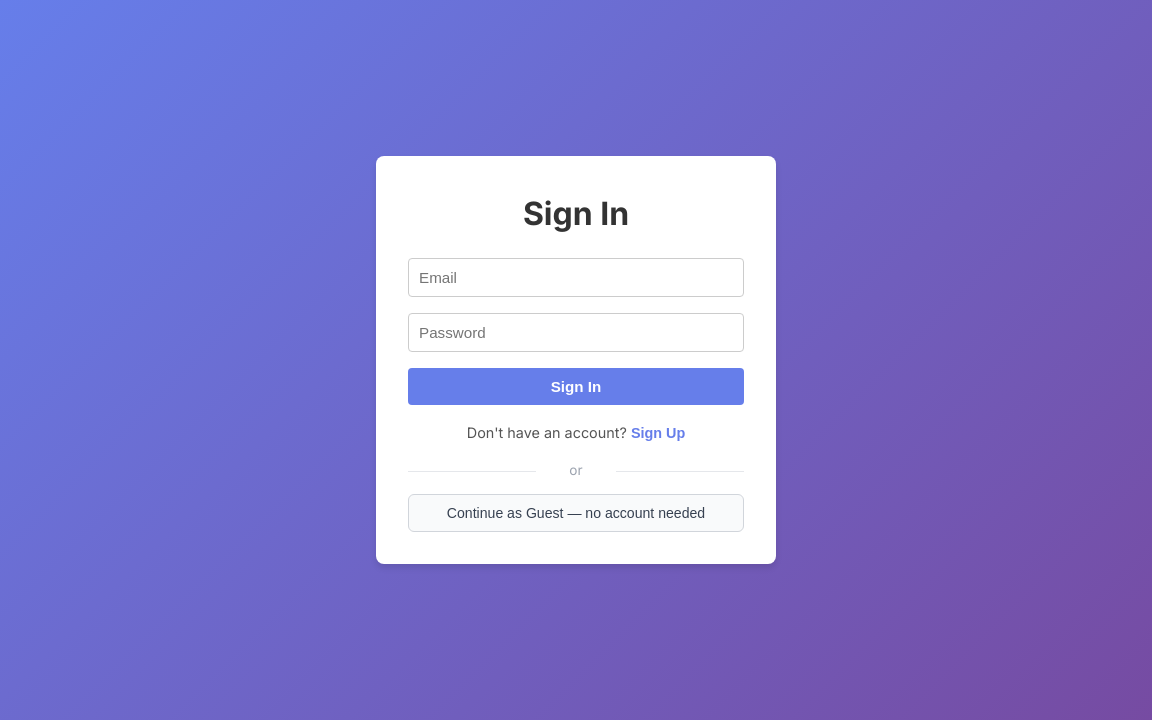
Test: AuthPage – Sign Up mode › shows name field after switching to Sign Up
The width and height of the screenshot is (1152, 720).
What coordinates should you click on to do the following:
click the button "Sign Up"
I would click on:
 (658, 433)
Its box is [631,425,685,441].
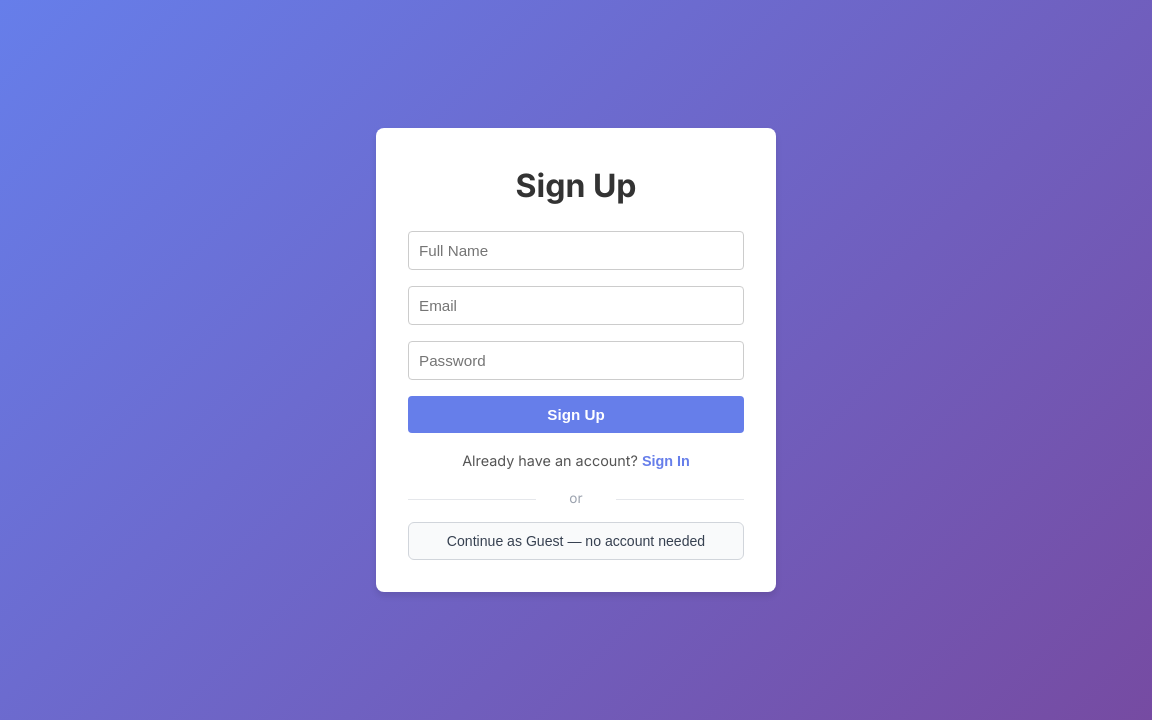
expect the field with placeholder "Full Name" is shown: met, box [408,231,744,270]
expect the heading "Sign Up" is shown: met, box [516,166,636,205]
